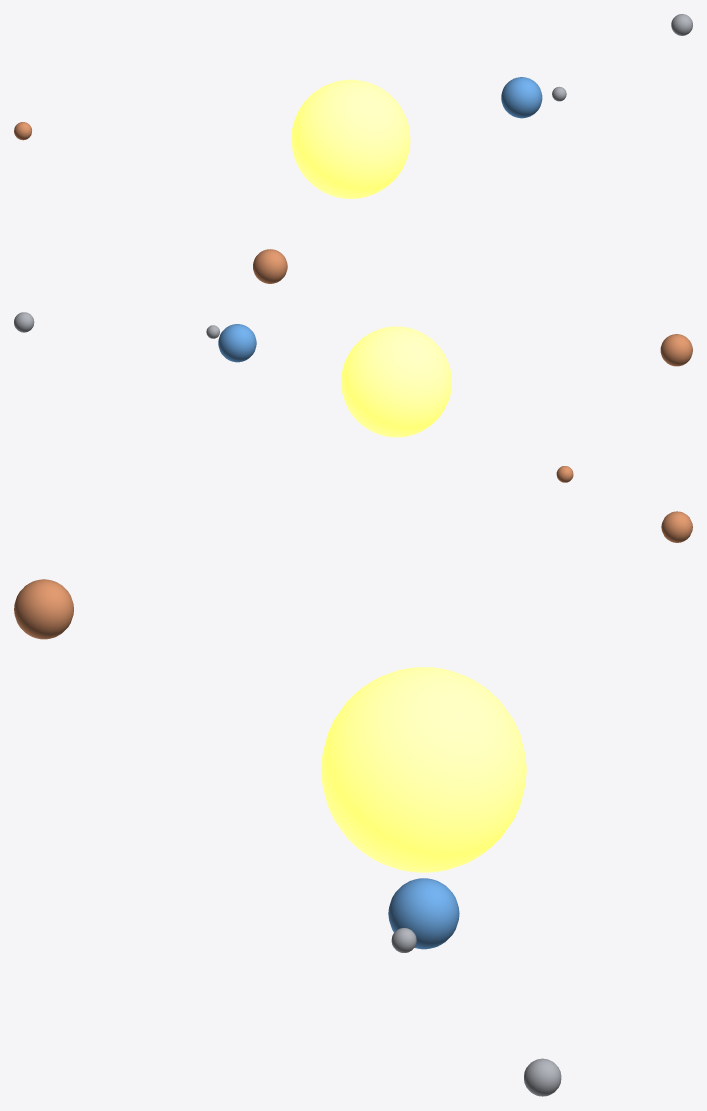
File: escena_sistema_solar.glb
3 renders of one model, top to bottom at view 1: azimuth 30°, elevation 25°; view 2: azimuth 150°, elevation 25°; view 3: azimuth 270°, elevation 25°, orthographic. The views are drawn at different scales.
Visible parts, largest first — view 1: Sol, Planeta_Tierra, Planeta_Marte; view 2: Sol, Planeta_Tierra, Planeta_Marte, Asteroide_Ceres_Dawn; view 3: Sol, Planeta_Tierra, Planeta_Marte, Asteroide_Ceres_Dawn.
Boxes of the visible parts, x1,y1,x2,y2 form: Sol: (291,79,410,198); Planeta_Tierra: (501,77,542,118); Planeta_Marte: (253,249,287,283); Sol: (341,326,451,437); Planeta_Tierra: (218,324,256,362); Planeta_Marte: (660,334,692,366); Asteroide_Ceres_Dawn: (14,312,34,332); Sol: (321,667,526,872); Planeta_Tierra: (388,878,459,949); Planeta_Marte: (14,579,73,639); Asteroide_Ceres_Dawn: (524,1058,561,1096).
Bounding box in the file's own units: 16.04 × 2.6 × 8.58.
